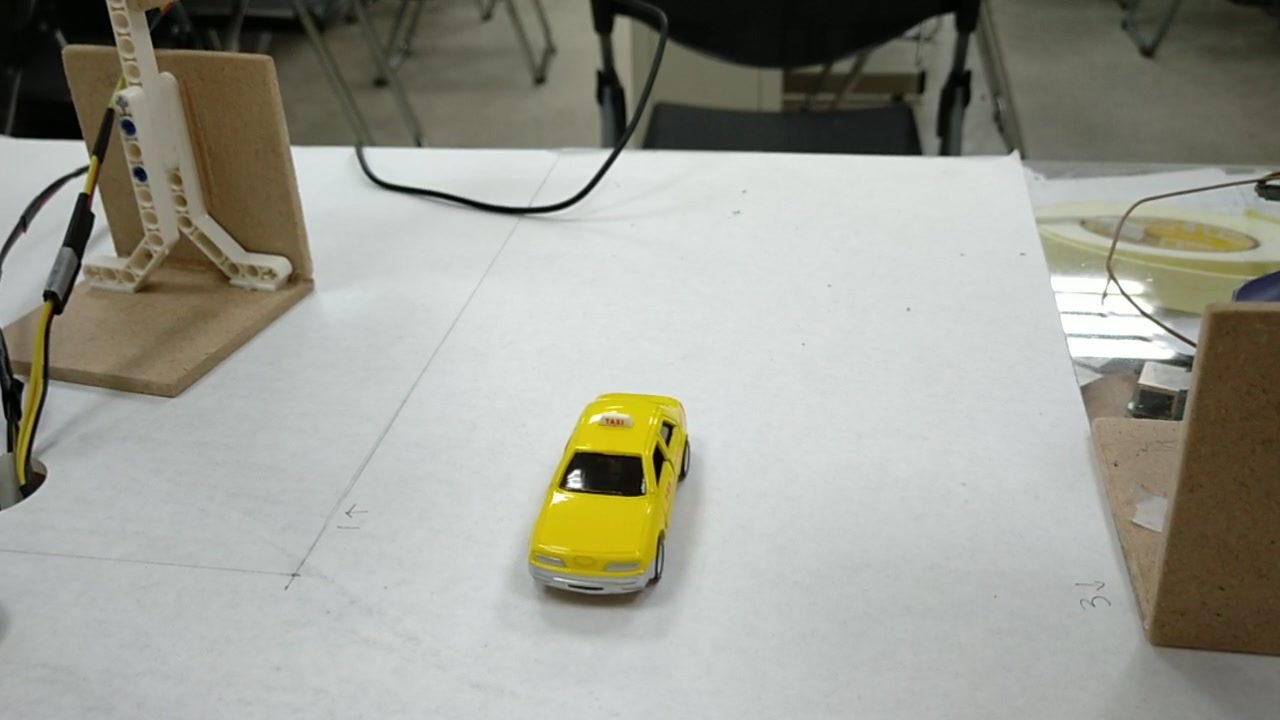car: (525, 384, 696, 606)
